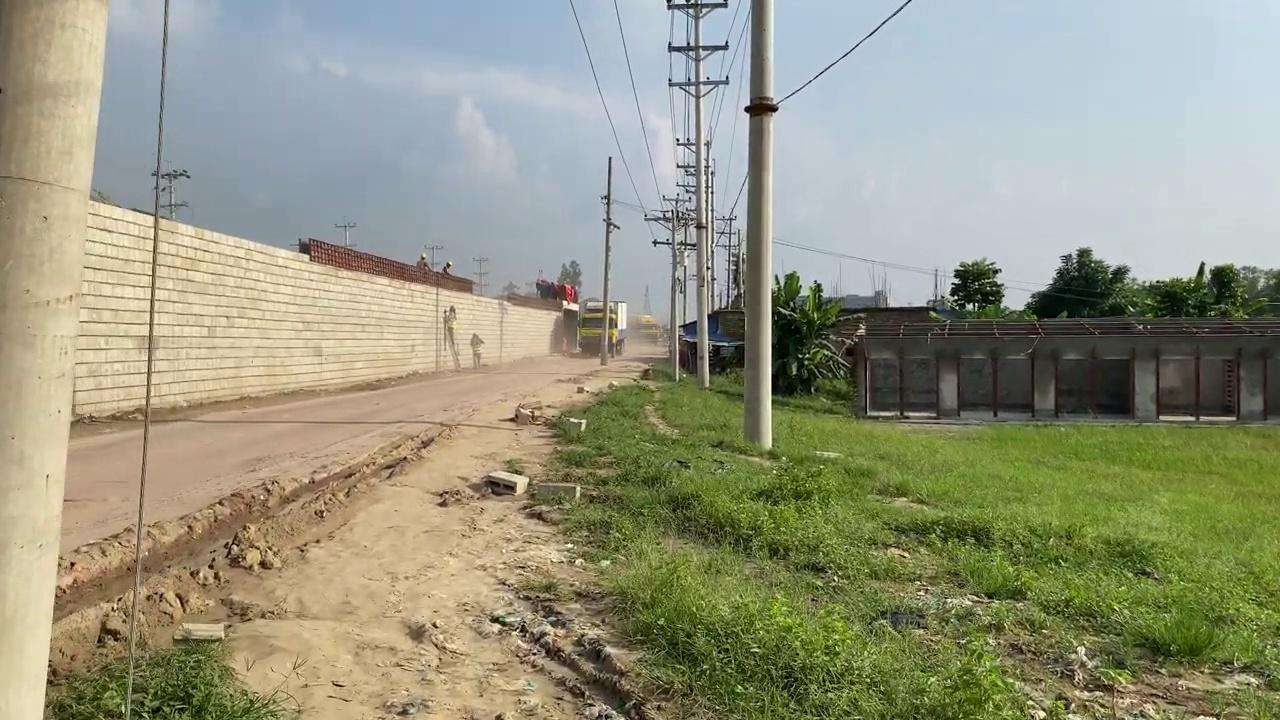Pole: (0, 0, 110, 719), (666, 0, 729, 389), (741, 0, 775, 451), (598, 155, 612, 365)
Traffic-sign: (1026, 244, 1136, 318), (946, 256, 1005, 315)
Tree: (677, 308, 745, 375), (575, 297, 627, 356), (637, 285, 657, 328)
Upstairs: (72, 196, 572, 419), (842, 315, 1278, 423)
